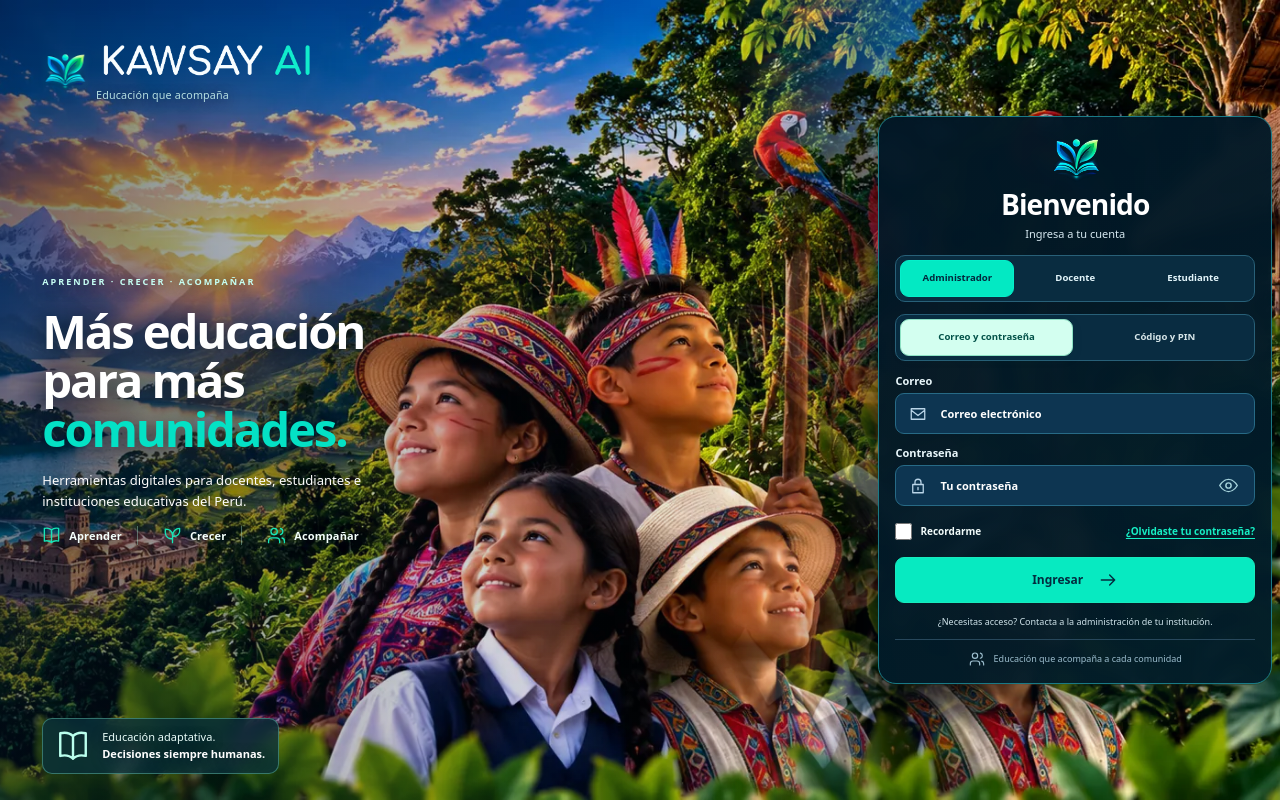
Test: Login y control de acceso › muestra el error del servidor sin exponer detalles
Type "a@b.pe" into the field labelled "Correo" at [1090, 414], box [938,395,1241,432]
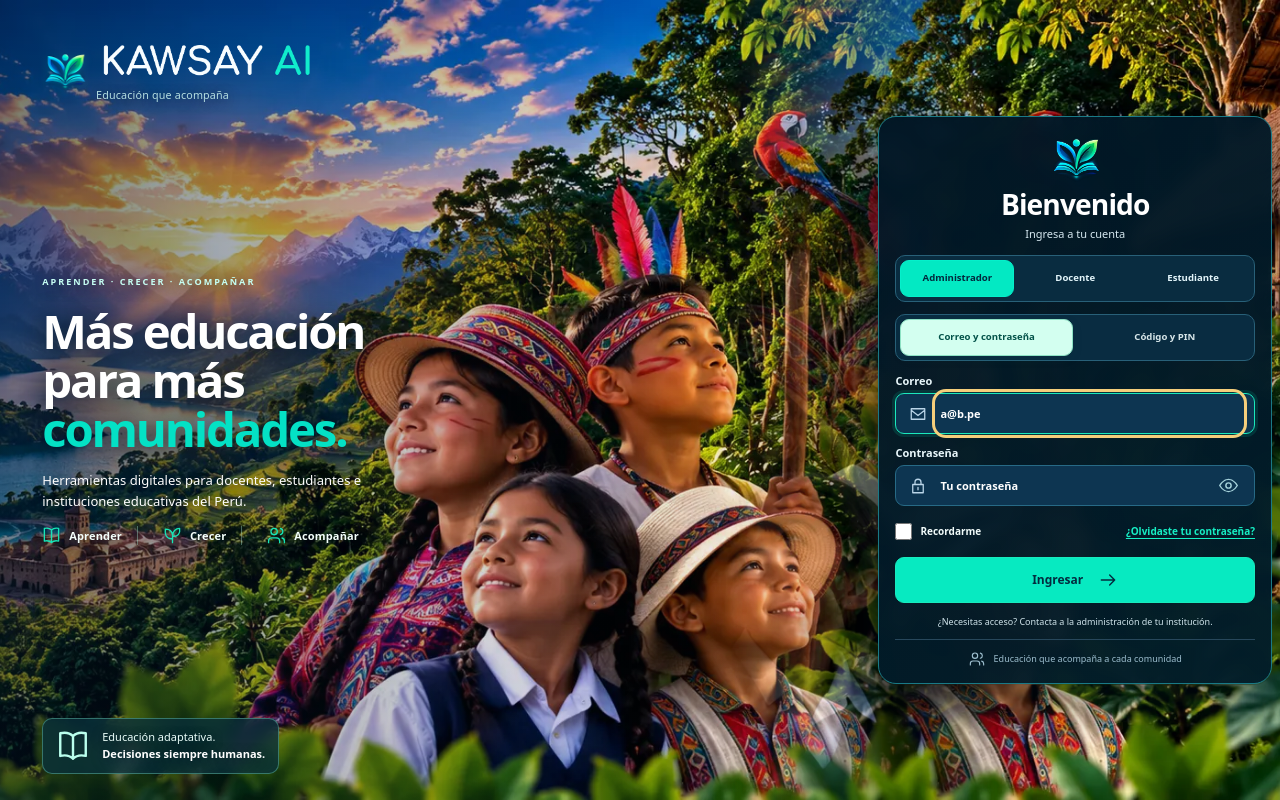
Type "mala" into the password field labelled "Contraseña" at [1090, 486], box [938,468,1241,504]
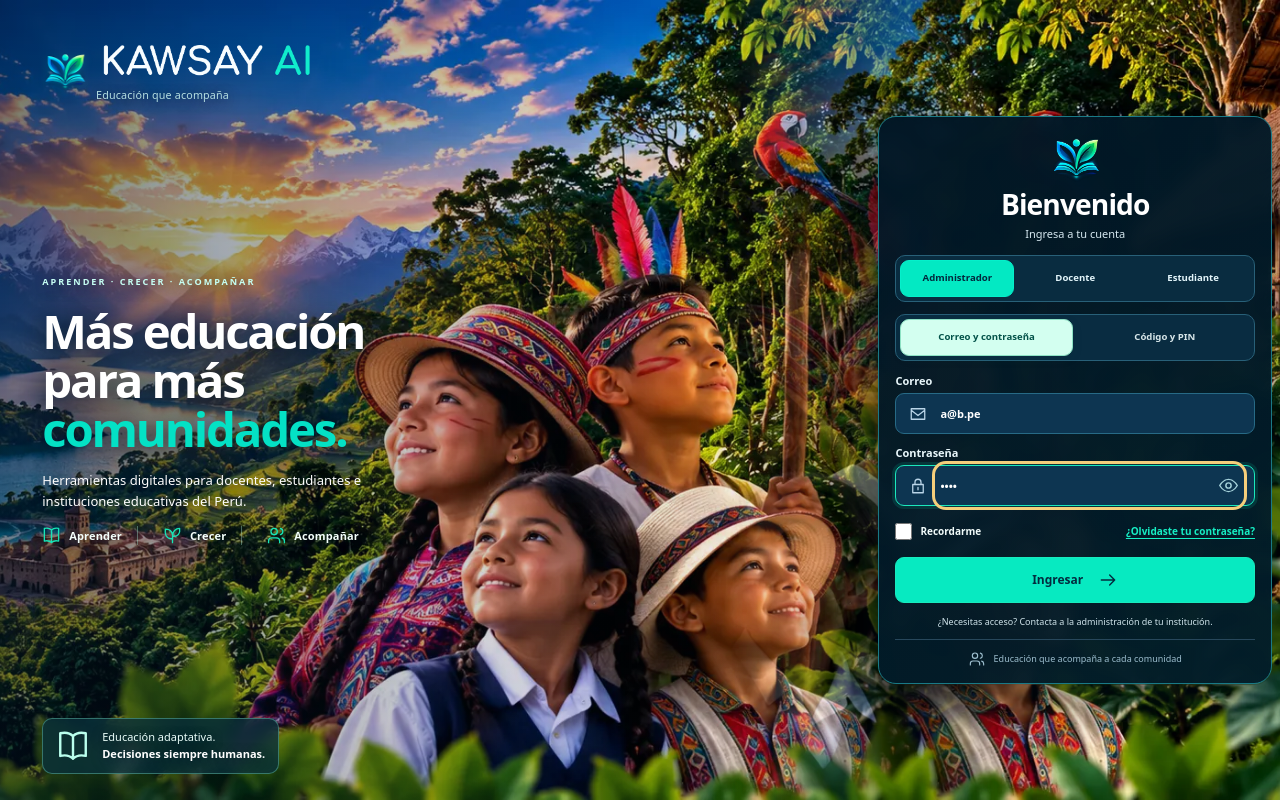
Click the button "Ingresar" at [1075, 580], box [895,558,1255,604]
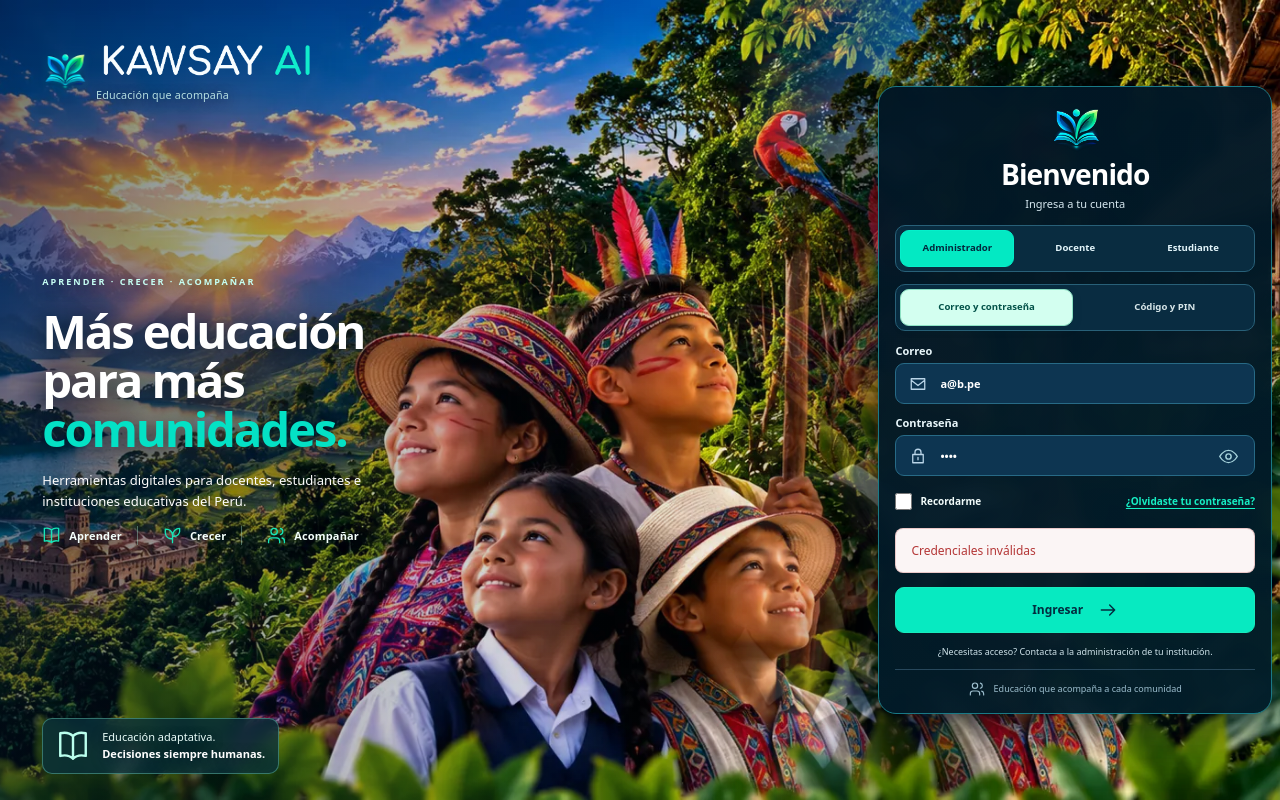
Expected: the message reads "Credenciales inválidas", [911,542,1036,559]
